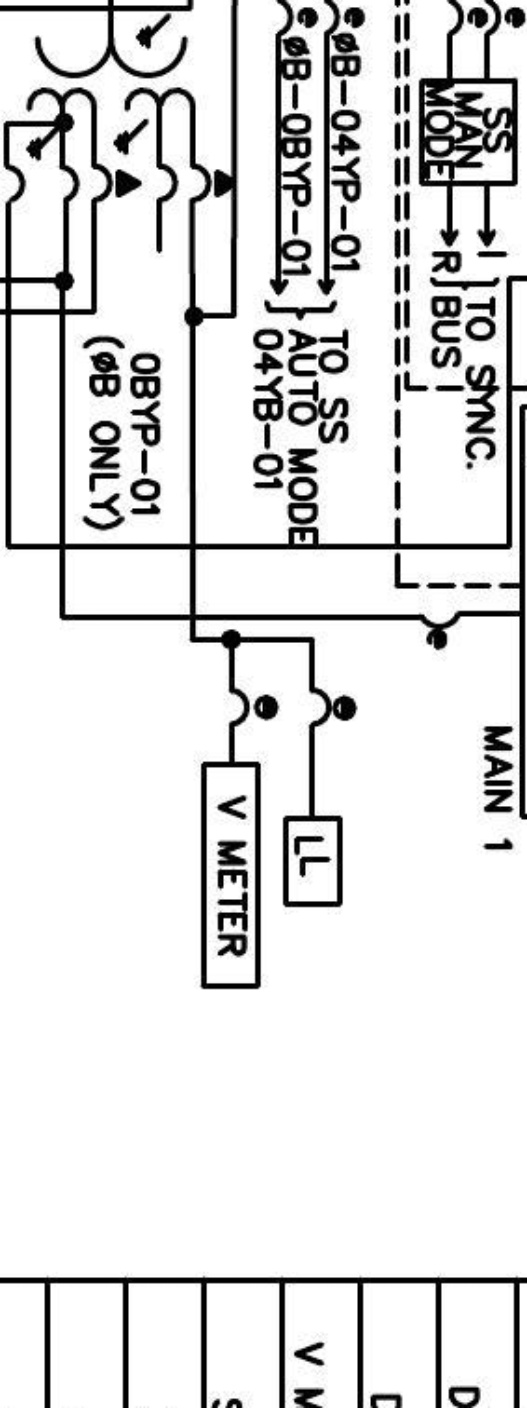115_vt_1p: (24, 11, 237, 205)
LL: (280, 813, 346, 910)
ss_man_mode: (417, 76, 520, 188)
v_m_digital: (198, 759, 264, 992)
